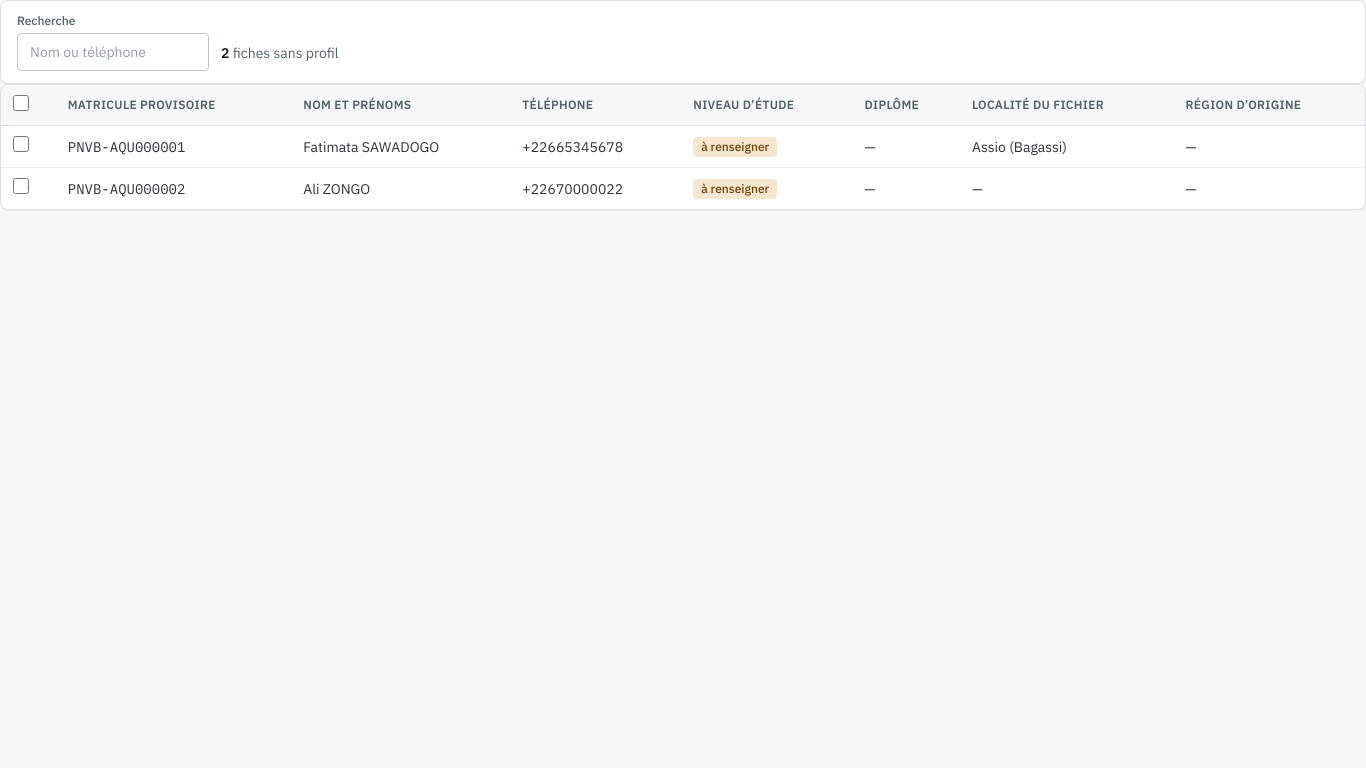
Test case: Attribuer les profils › garde la localité du fichier par défaut, et prévient pour les fiches qui n’en ont pas
Click the checkbox named "Cocher toute la page" at (21, 103), box [13, 95, 29, 111]
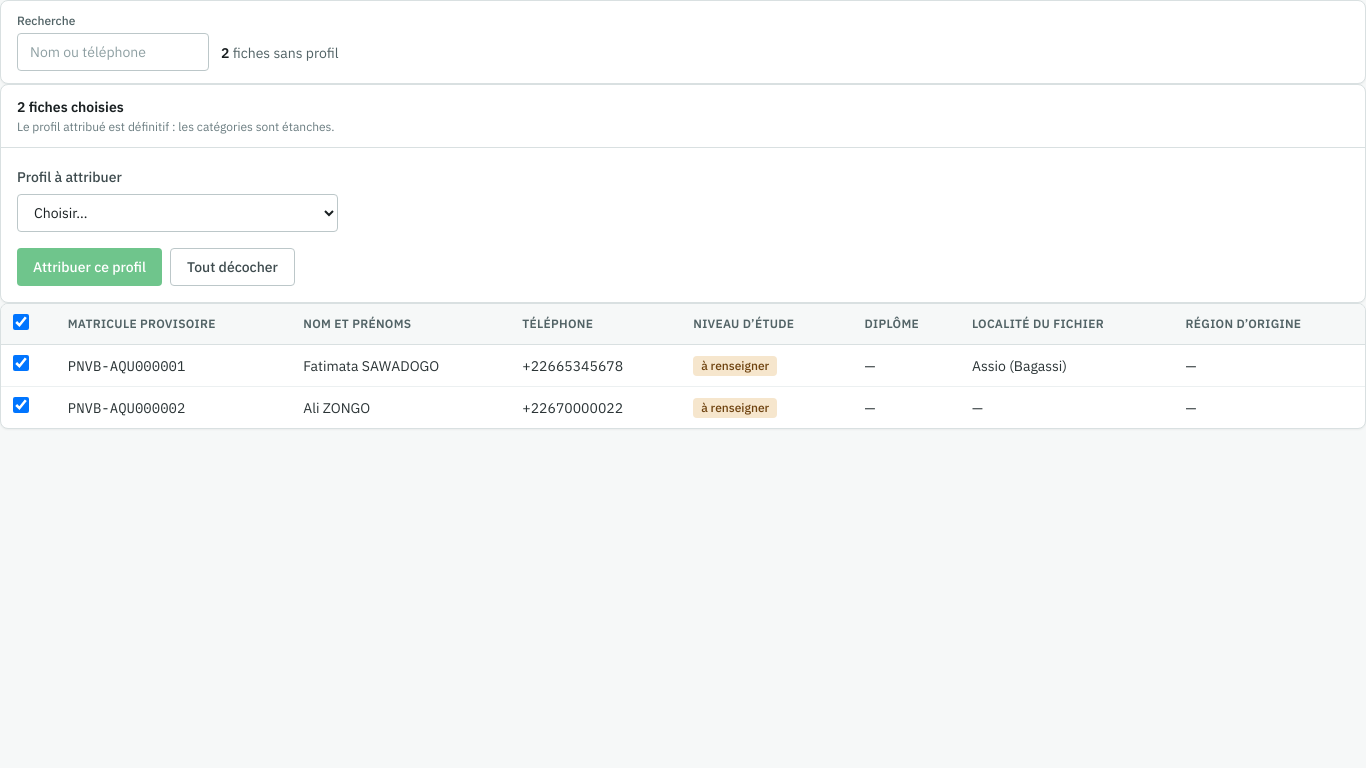
Select "Assistant (A-OPK)" in the dropdown labelled "Profil à attribuer" at (178, 213), box [17, 194, 338, 232]
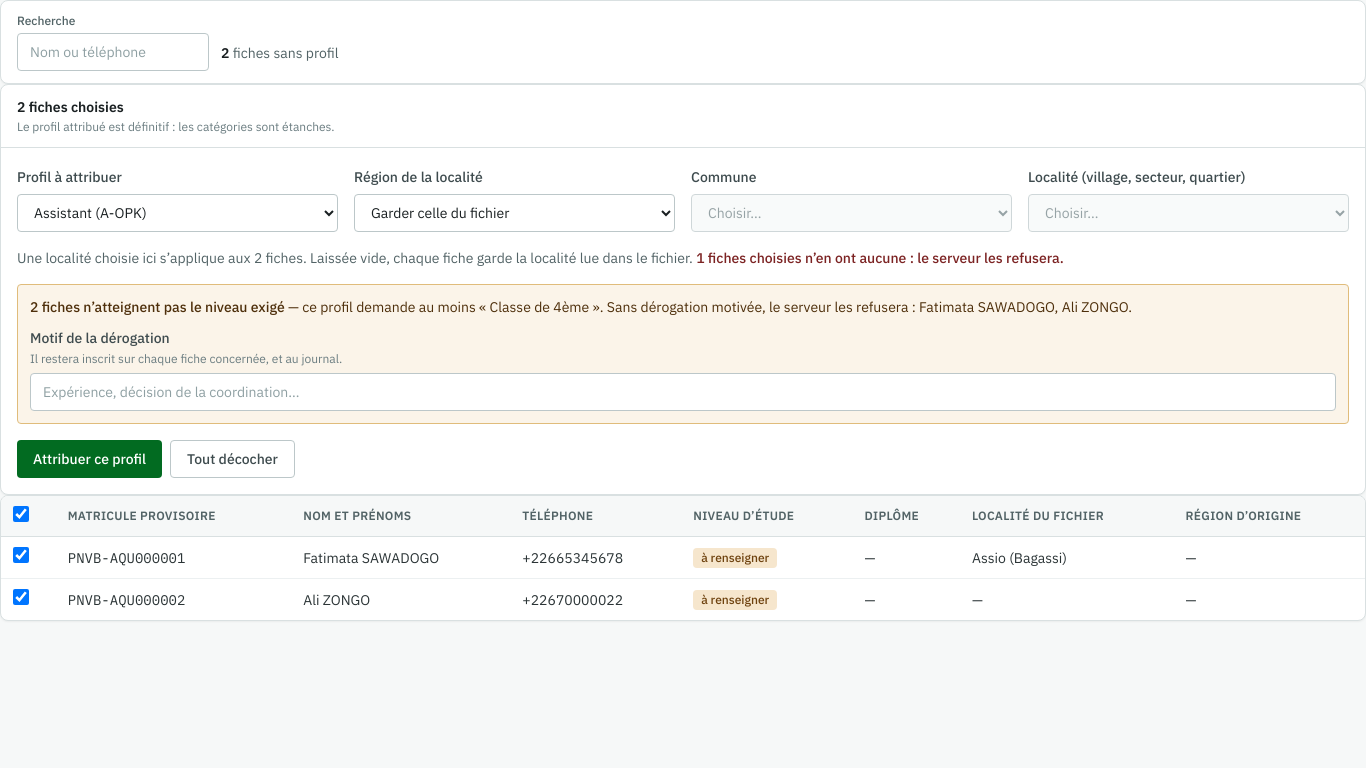
Now the text "1 fiches choisies n’en ont aucune : le serveur les refusera." is shown, box [693, 249, 1064, 267]
Click the button "Attribuer ce profil" at (90, 459), box [17, 440, 162, 478]
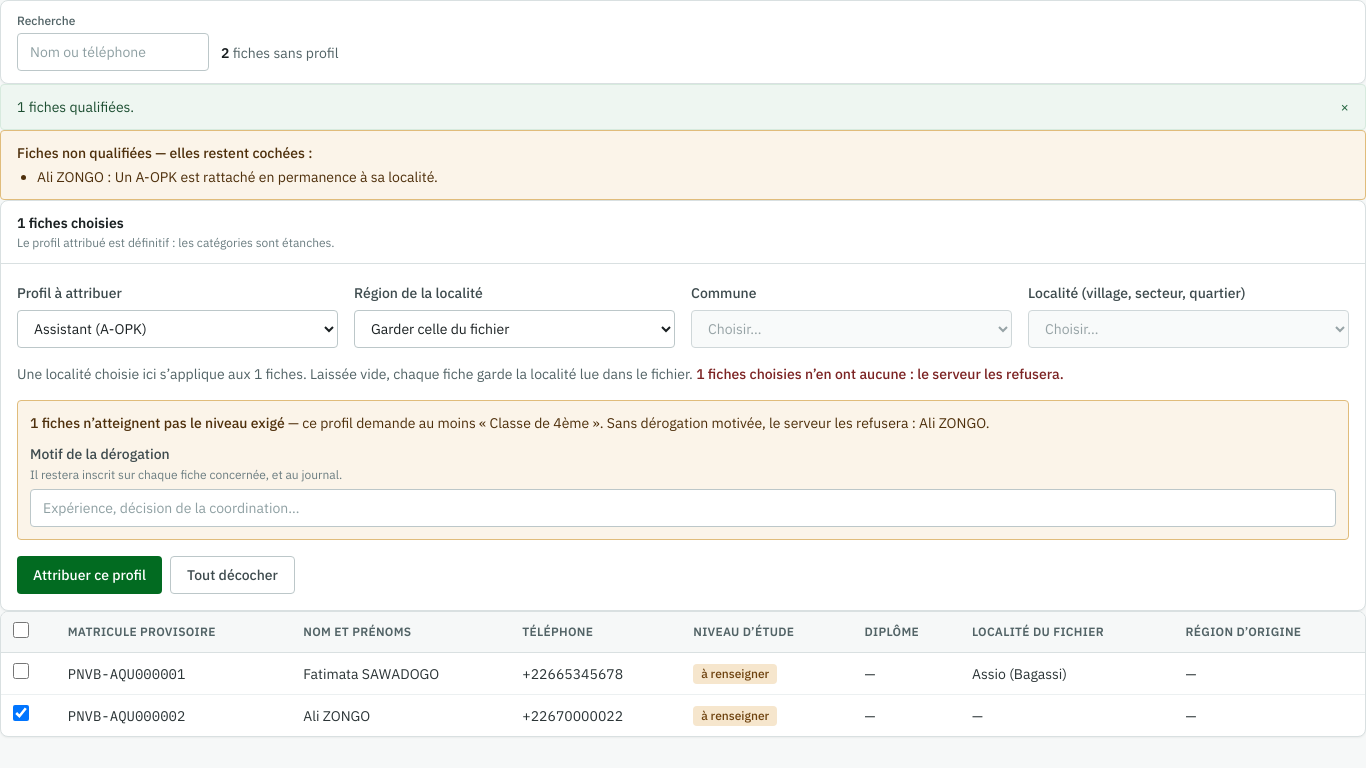
Now the checkbox named "Choisir Ali ZONGO" is checked, box [13, 705, 29, 721]
Now the text "1 fiches qualifiées." is shown, box [17, 97, 134, 117]
Now the list item "Ali ZONGO : Un A-OPK est rattaché" is shown, box [37, 168, 438, 186]
